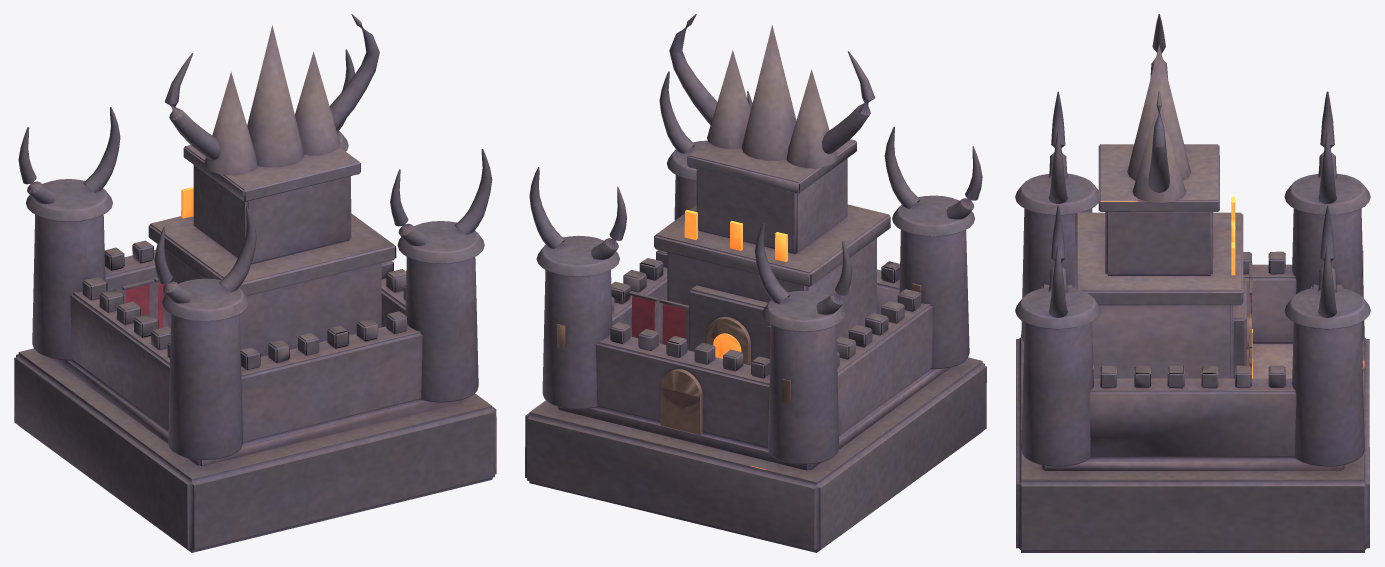
Rendered from WM_Fortress.fbx.
3 views of the same model, side by side, from view 1: azimuth 30°, elevation 25°; view 2: azimuth 150°, elevation 25°; view 3: azimuth 270°, elevation 25° (orthographic). The views are drawn at different scales.
Parts seen in each view (by area): view 1: WM_Fortress_LOD0; view 2: WM_Fortress_LOD0; view 3: WM_Fortress_LOD0.
Part boxes in pixels (box(x1,y1,x2,y2)): WM_Fortress_LOD0: box(14, 14, 496, 552); WM_Fortress_LOD0: box(525, 14, 986, 552); WM_Fortress_LOD0: box(1015, 14, 1370, 552).
Size of what is drawn, in the model's own units: 11.42 by 14.3 by 10.56.
